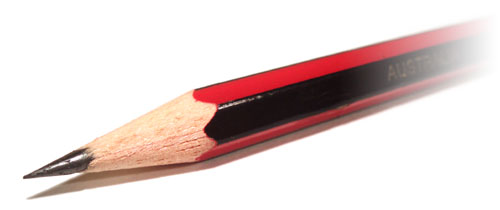pencil: (11, 16, 499, 201)
